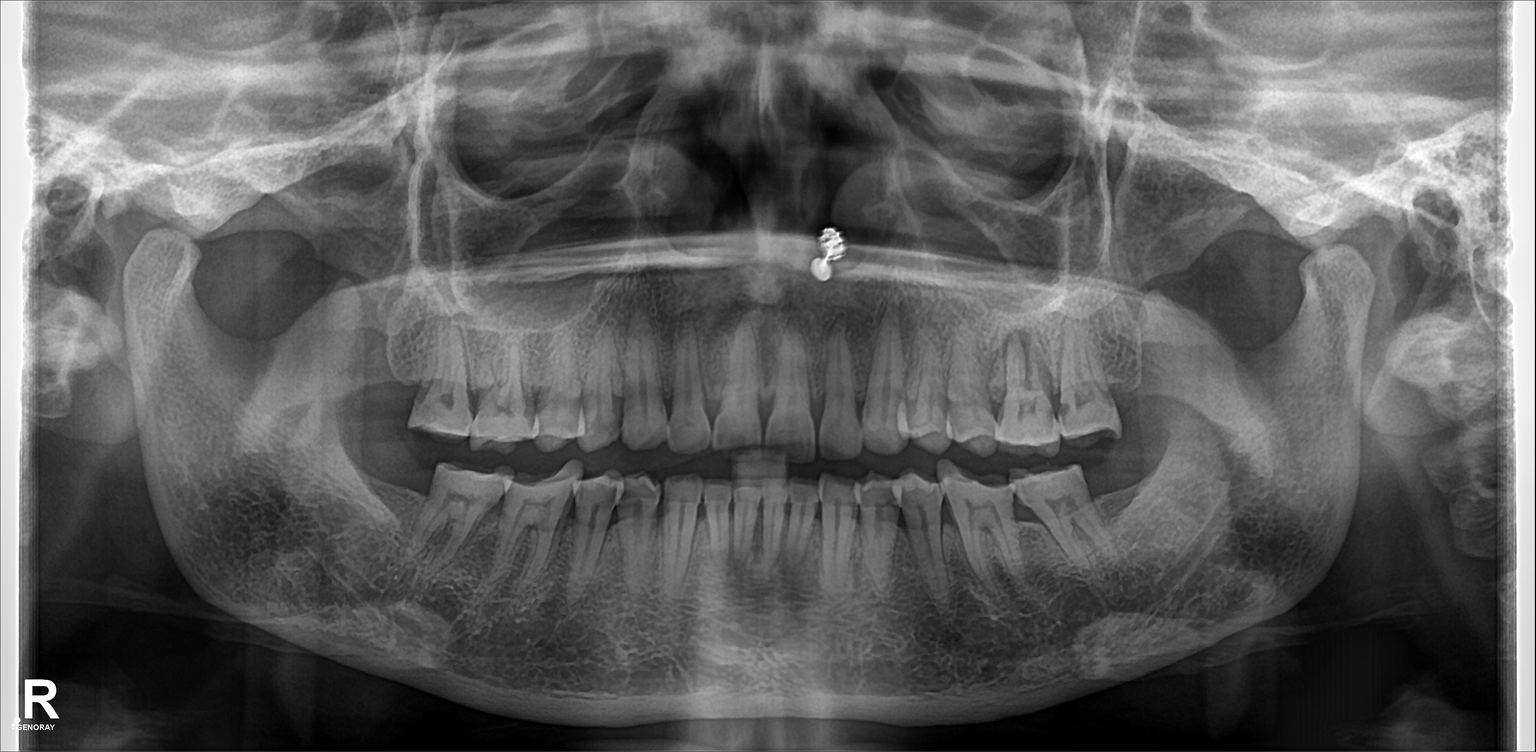Dental Caries: (1047, 383, 1068, 425)
Missing Tooth: (371, 462, 435, 566), (1114, 313, 1167, 431), (372, 326, 420, 444), (1099, 456, 1159, 533)
